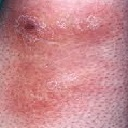Cellulitis: (13, 13, 46, 44)
